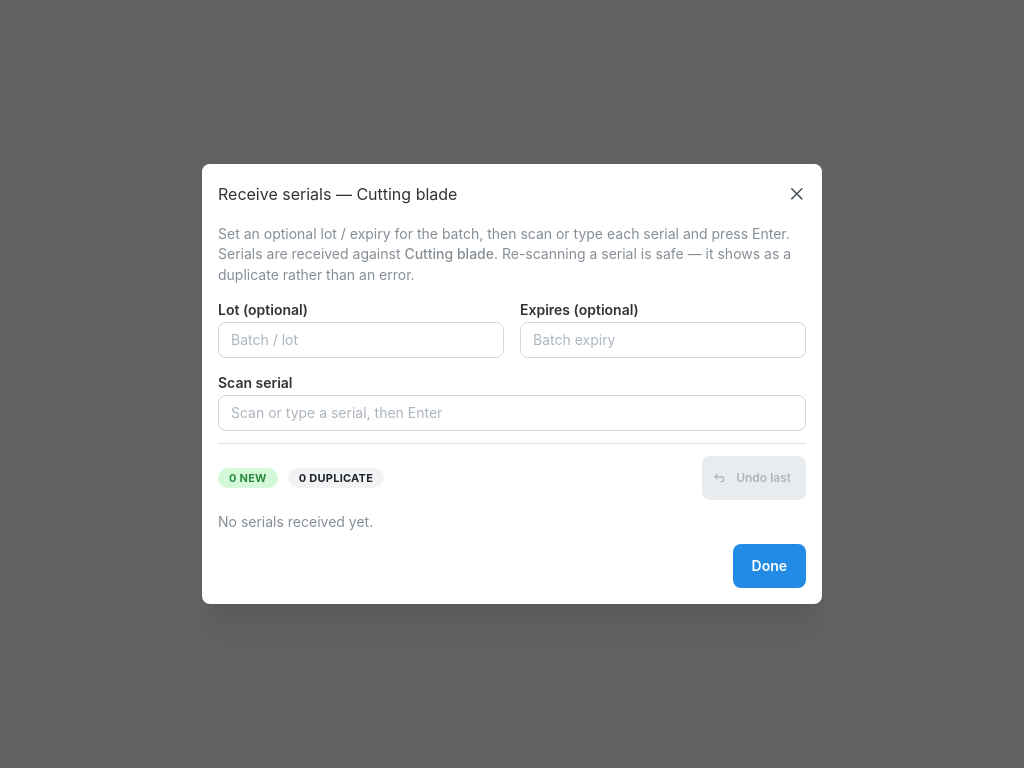
Test: SerializedScanReceiveModal › flags an idempotent re-scan as a duplicate rather than an error
Type "SN-DUP" into the field with test id "scan-receive-serial".
click(512, 413); type("SN-DUP")  # box left=218, top=395, right=806, bottom=431
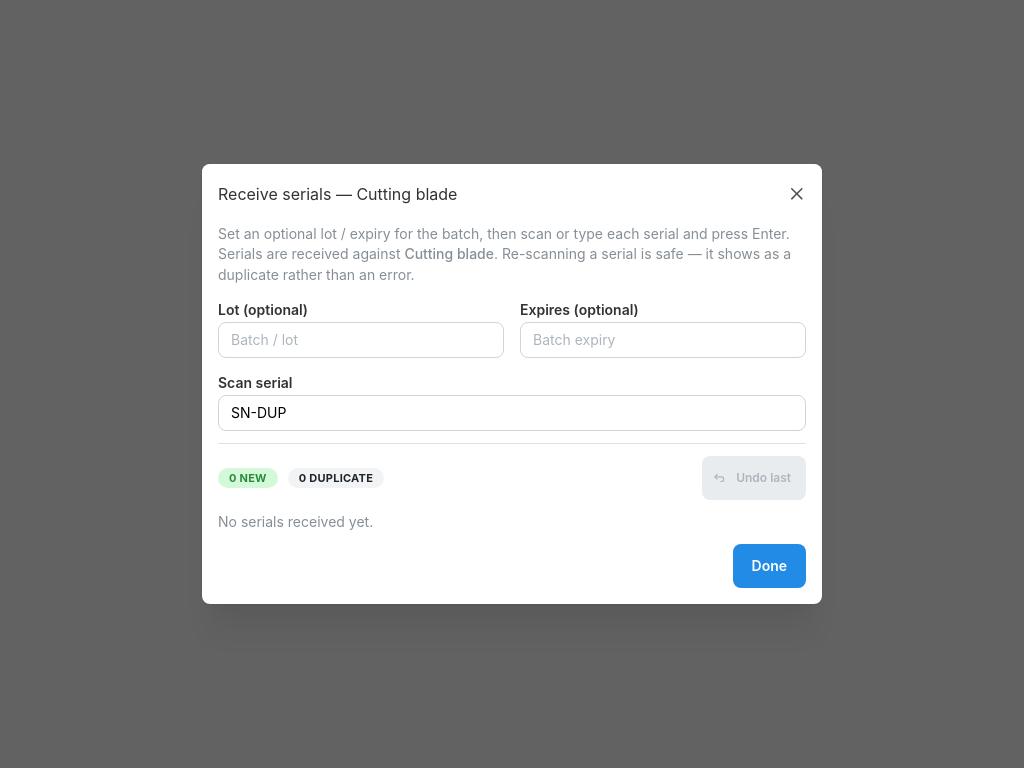
Submit the form with test id "scan-receive-form", box left=218, top=370, right=806, bottom=431
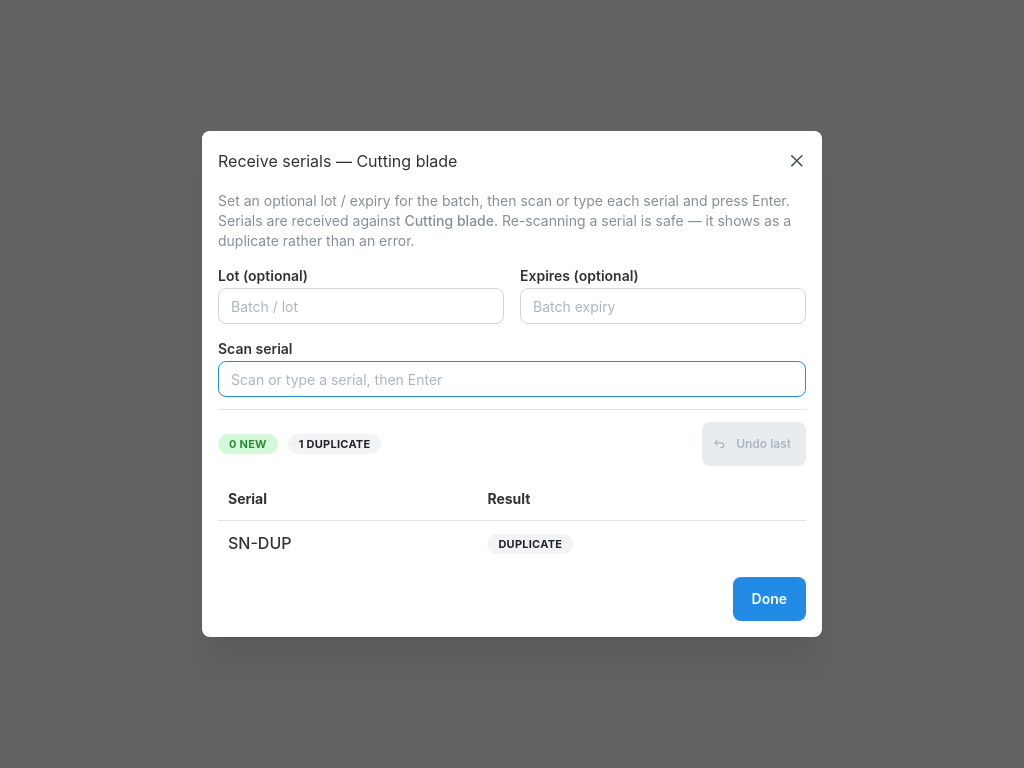
Expected: the element with test id "scan-receive-new-count" reads "0 new", left=218, top=434, right=278, bottom=454
Now the text "Duplicate" is shown, box left=498, top=535, right=562, bottom=553
Now the element with test id "scan-receive-dup-count" reads "1 duplicate", box left=288, top=434, right=381, bottom=454
